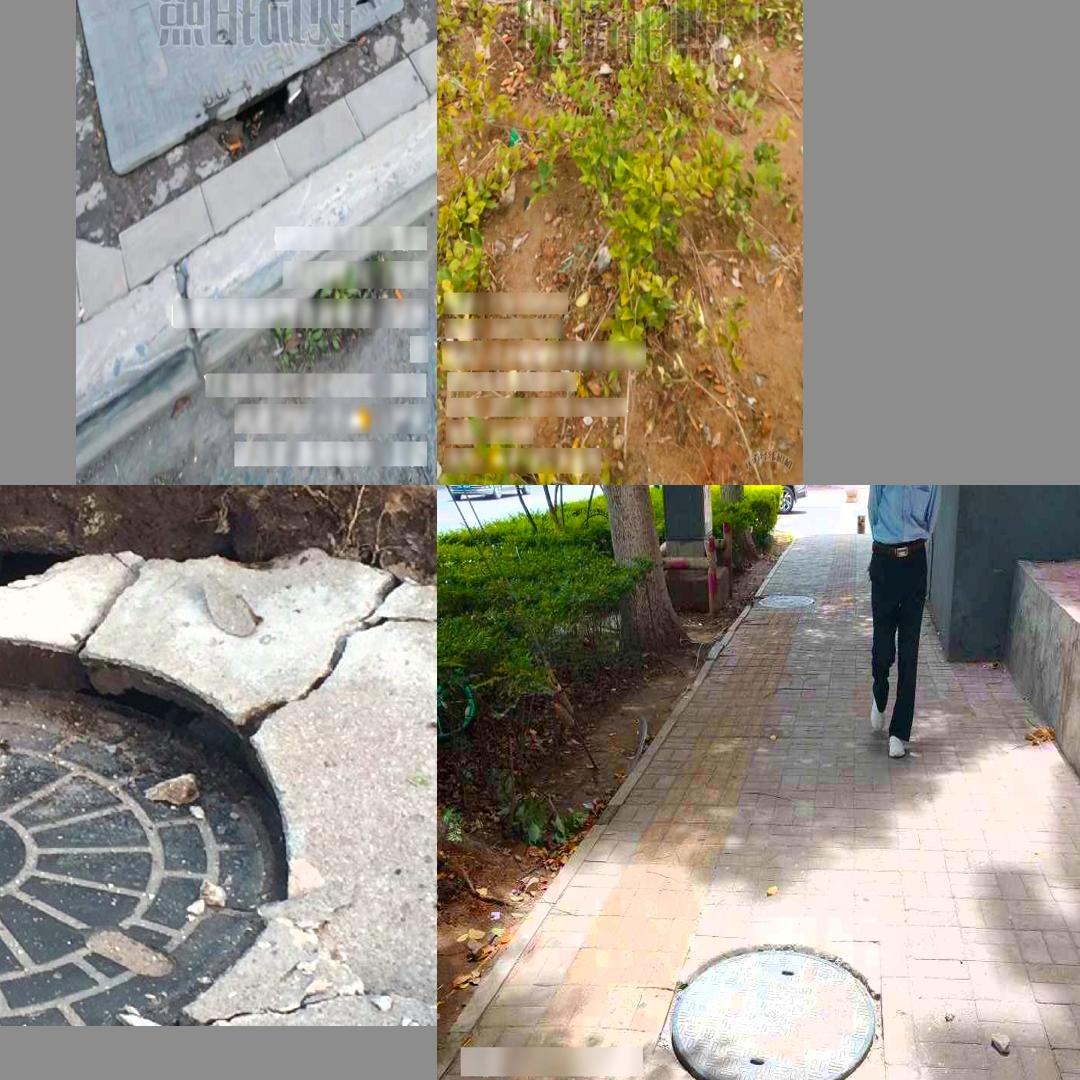circle: (0, 506, 426, 1019), (76, 0, 432, 208), (664, 943, 881, 1080)
